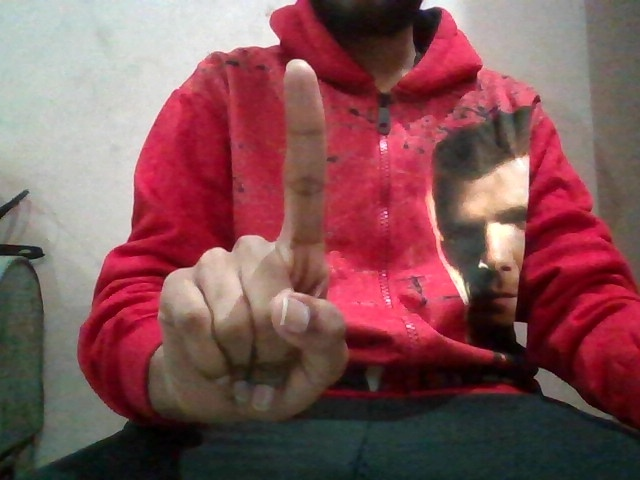D: (149, 52, 362, 427)
